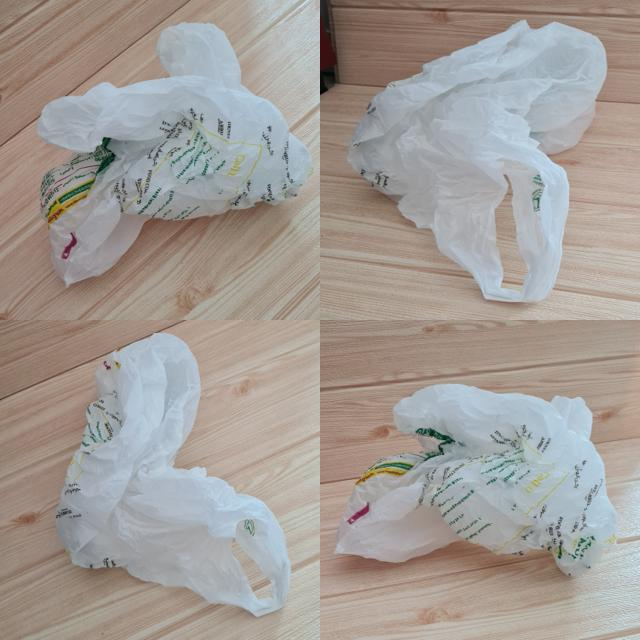Single-layer Plastic: (348, 21, 606, 302), (38, 24, 312, 285), (56, 334, 290, 616), (335, 384, 618, 575)
